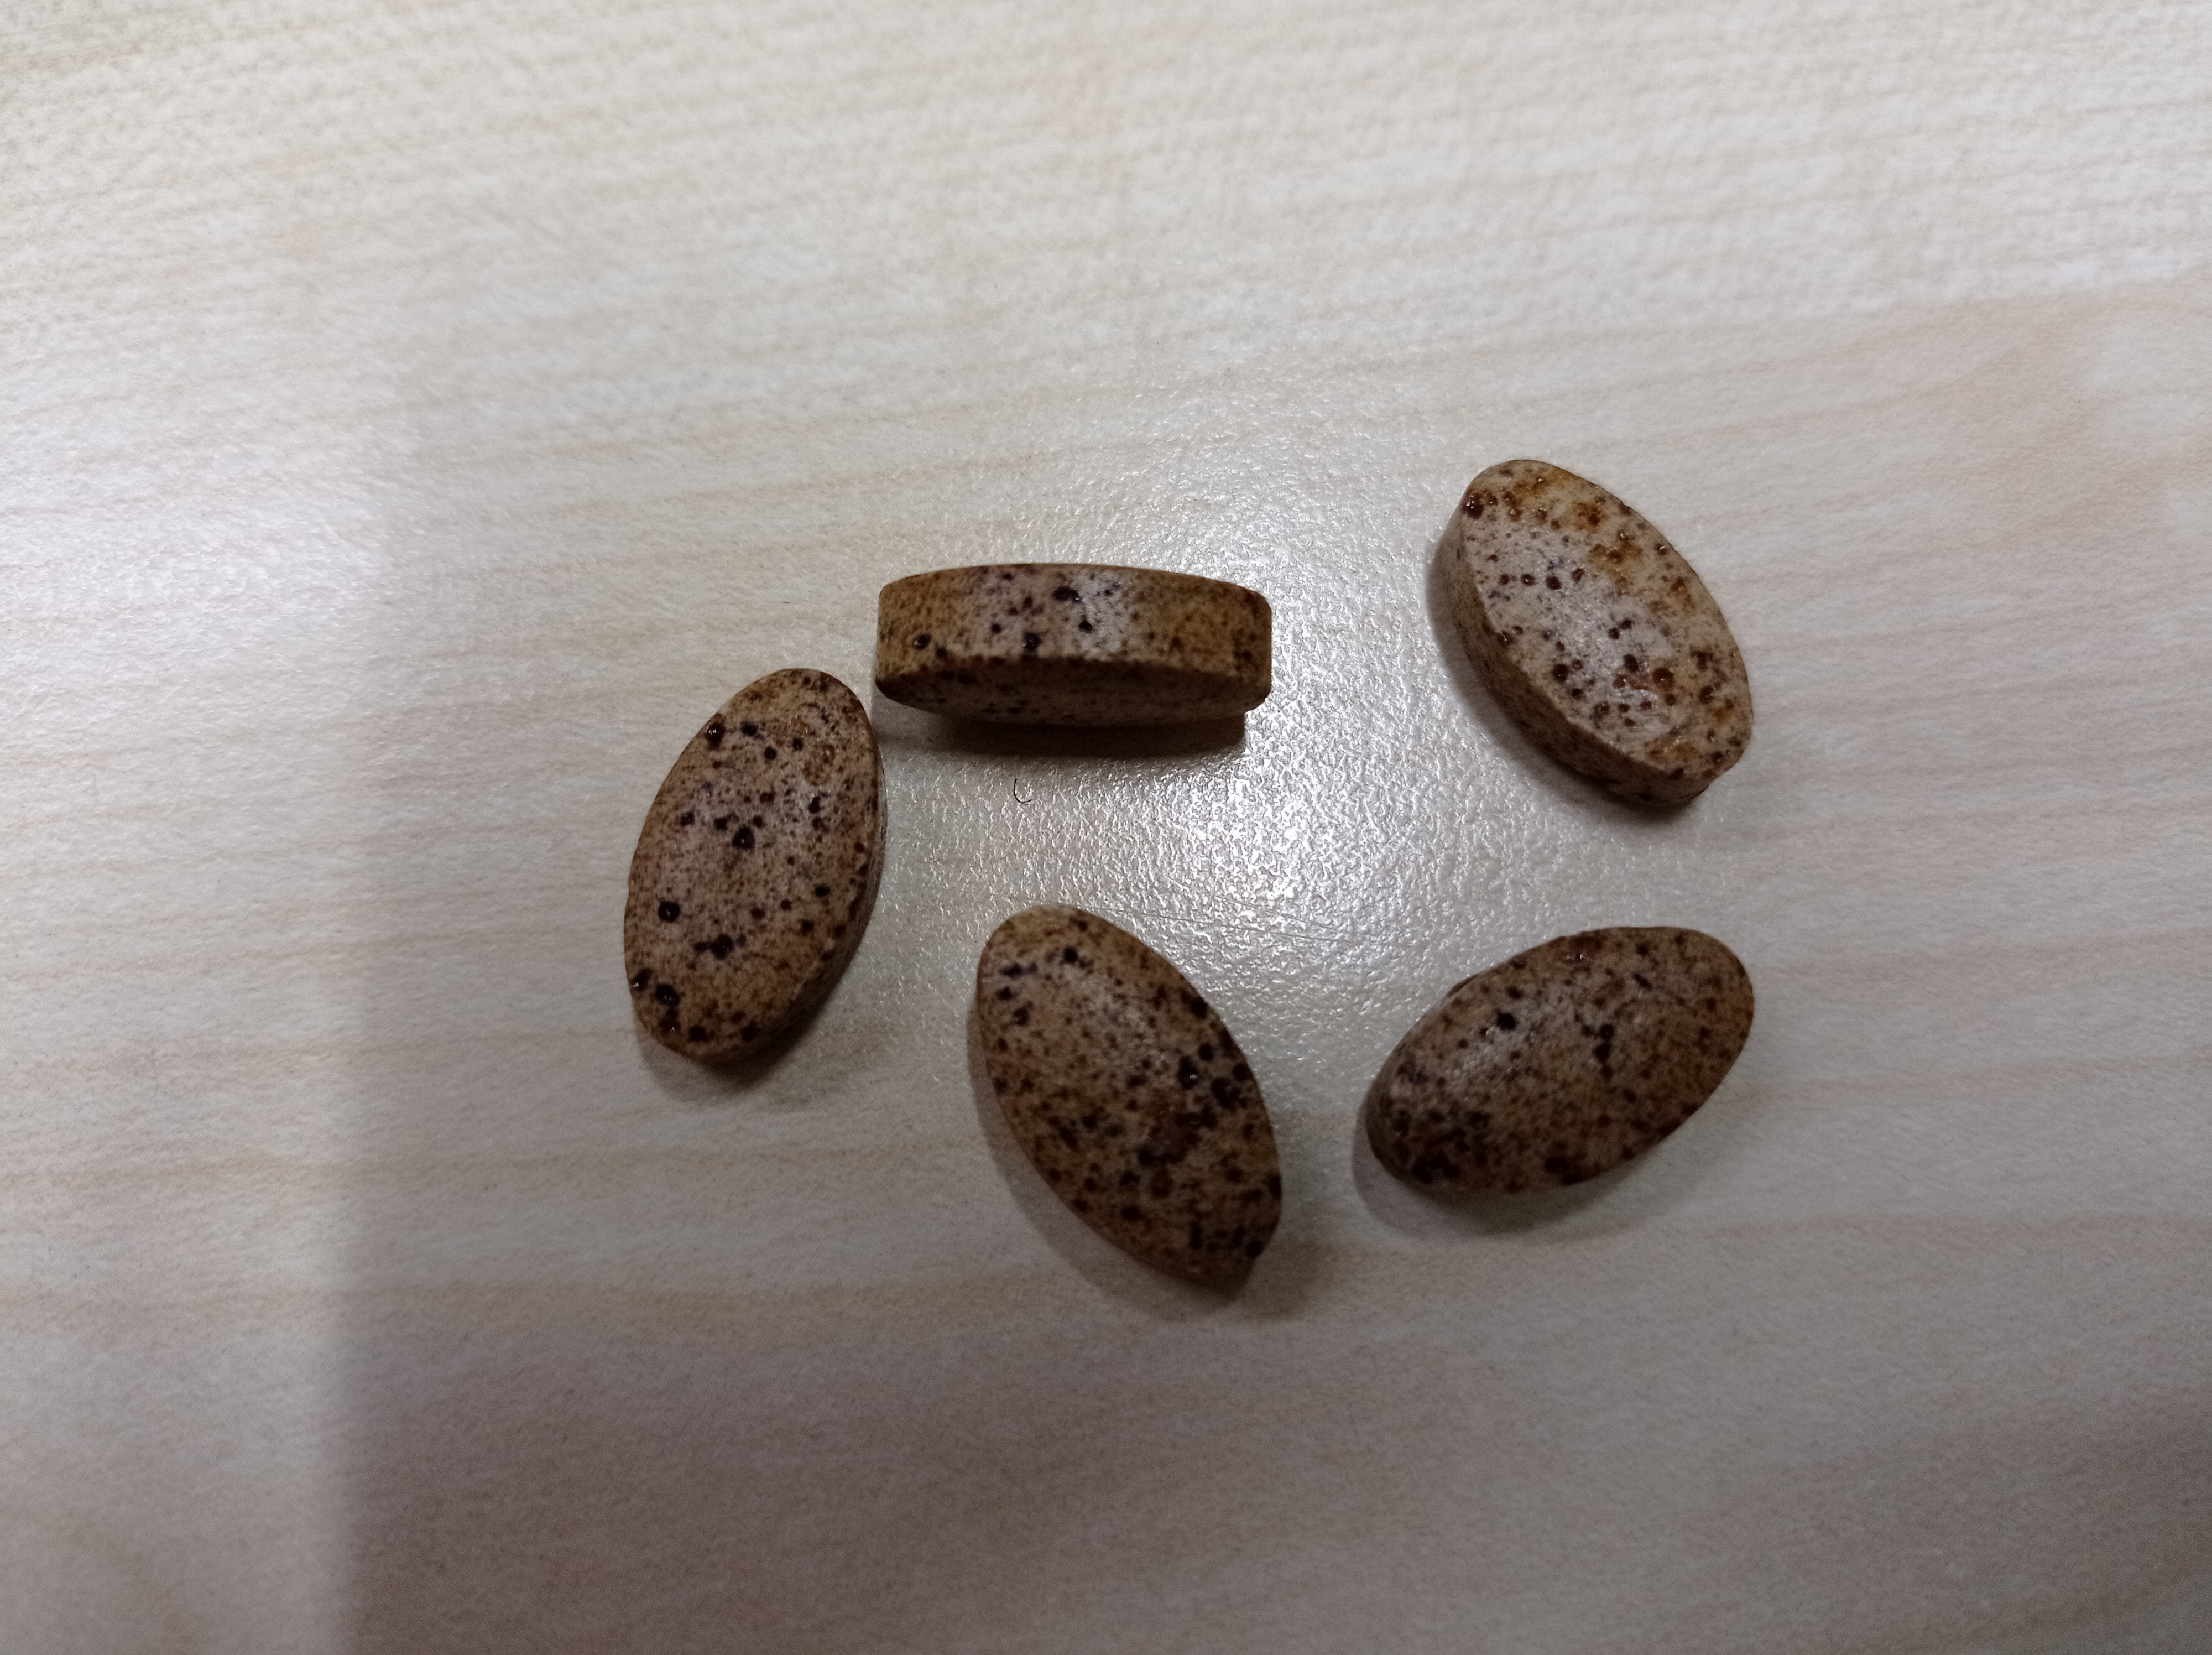brown_medicine: (978, 901, 1286, 1288), (1437, 459, 1755, 822), (1368, 923, 1755, 1205), (626, 669, 888, 1067), (874, 560, 1275, 730)
